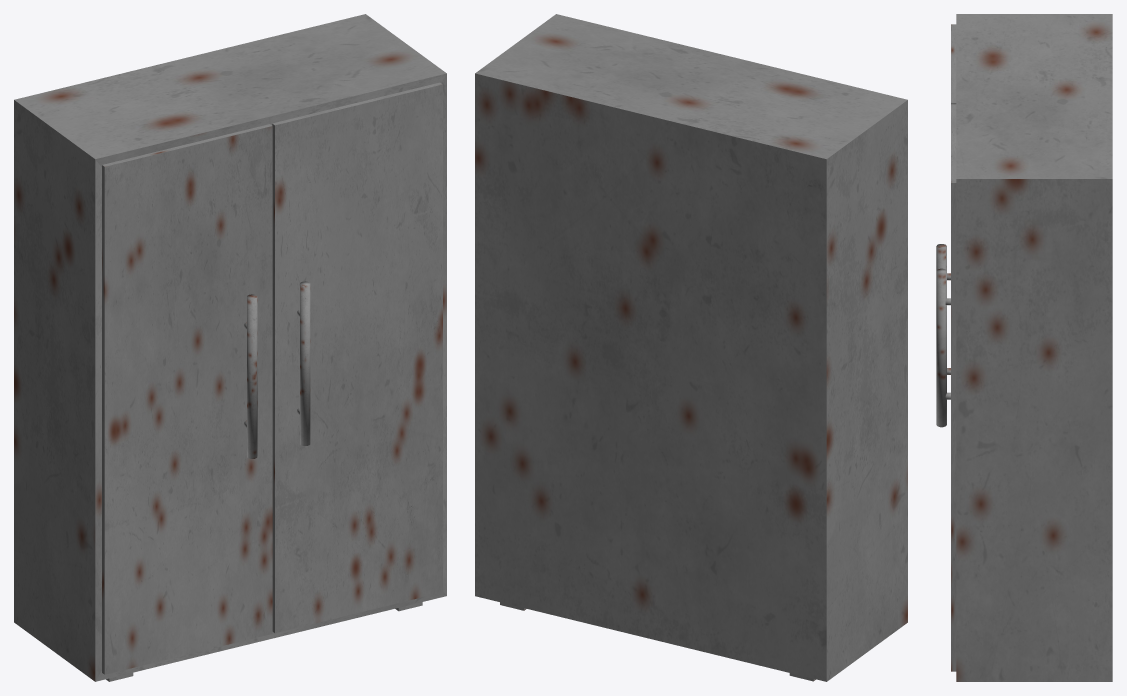
The model's file is shkaf metal.fbx.
The picture shows the model from 3 angles, left to right: view 1: azimuth 30°, elevation 25°; view 2: azimuth 150°, elevation 25°; view 3: azimuth 270°, elevation 25°; orthographic projection. The views are drawn at different scales.
Parts seen in each view (by area): view 1: Door_3, Wardrobe_2, Handle_4; view 2: Wardrobe_2; view 3: Wardrobe_2, Door_3, Handle_4.
Boxes of the visible parts, left/top/right/bottom form: Door_3: left=102, top=82, right=442, bottom=674; Wardrobe_2: left=14, top=14, right=446, bottom=681; Handle_4: left=244, top=281, right=310, bottom=458; Wardrobe_2: left=475, top=14, right=907, bottom=681; Wardrobe_2: left=956, top=14, right=1112, bottom=681; Door_3: left=951, top=24, right=956, bottom=671; Handle_4: left=936, top=244, right=950, bottom=427.
Bounding box in the file's own units: 289 × 418 × 130.
